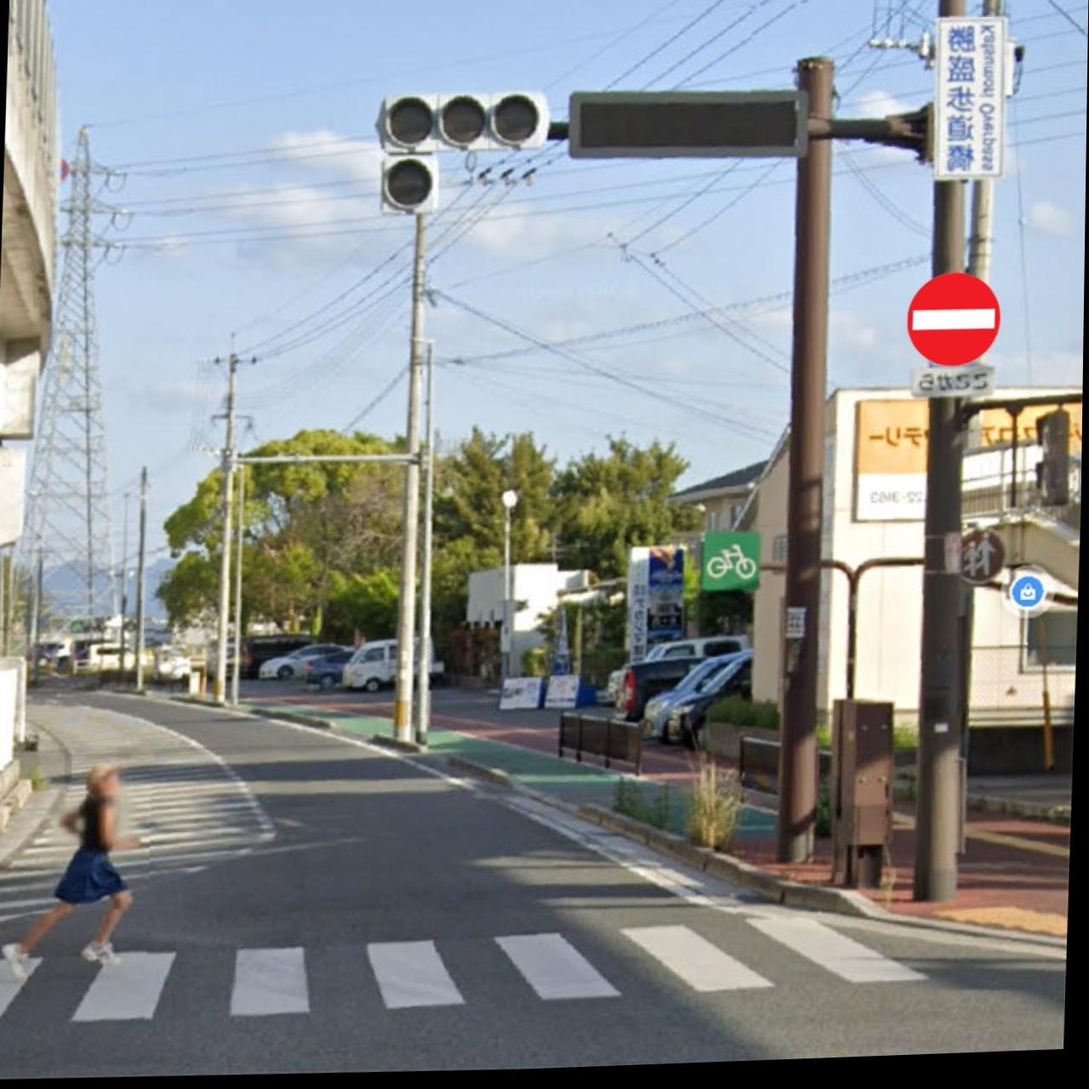barrier: (893, 271, 1012, 366)
